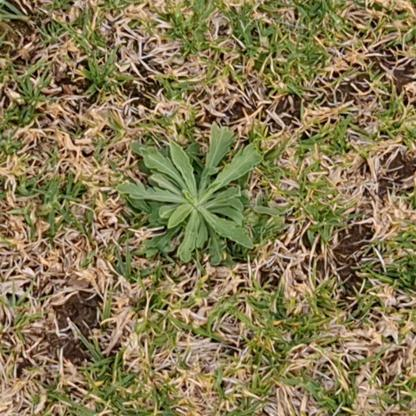Weeds: (117, 122, 263, 263)
